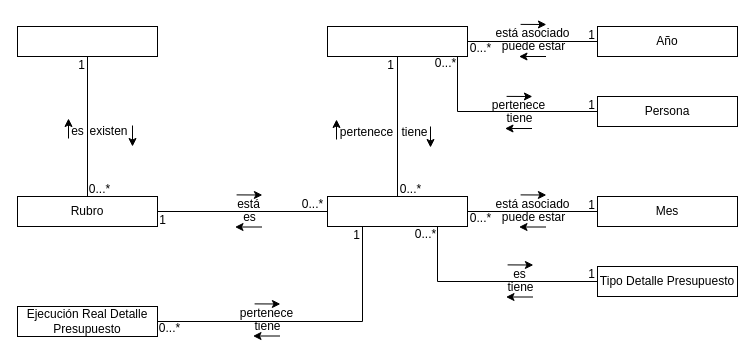
The diagram is 755 pixels wide and 362 high, and some of its shapes have lost their labels. Here are the shapes that lost their labels. From the top down, the box of each, then its label:
(16, 26, 158, 56): Tipo Rubro
(326, 26, 468, 56): Presupuesto
(326, 196, 468, 226): Detalle Presupuesto
